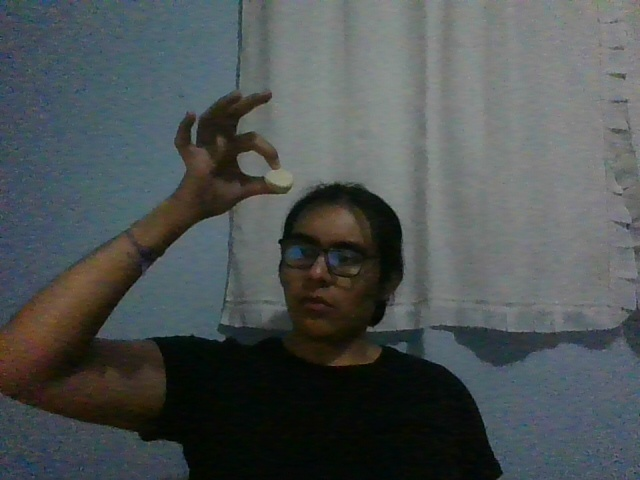goma: (265, 169, 293, 192)
